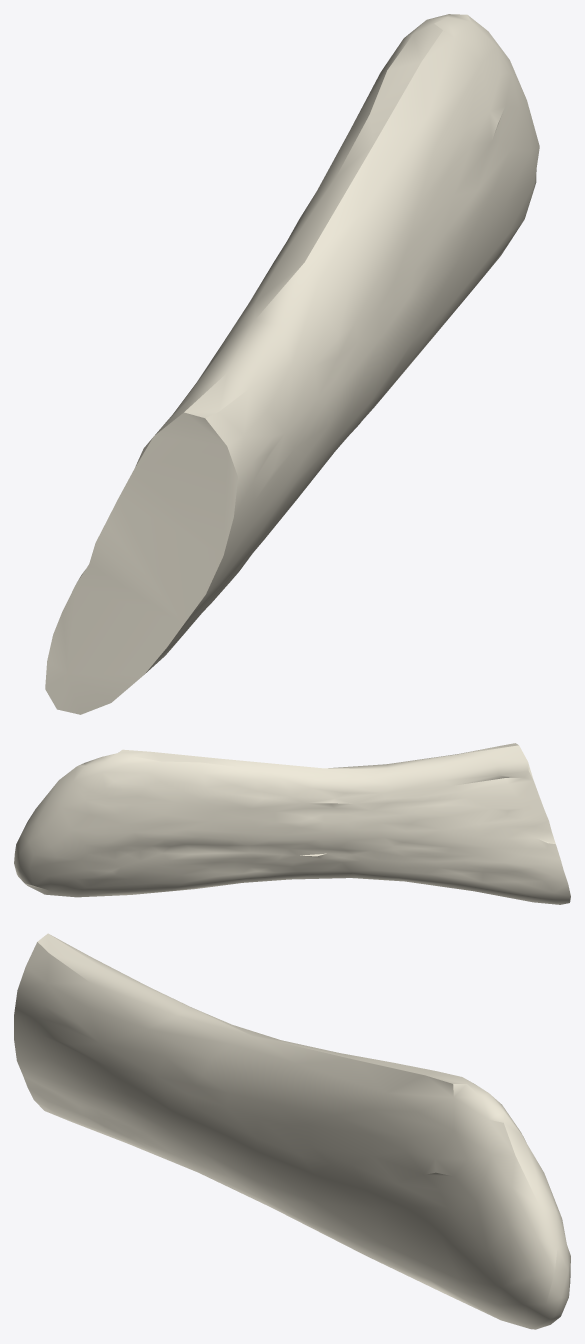
Rendered from fma26006_mm1558m.glb.
The picture shows the model from 3 angles, top to bottom: view 1: azimuth 30°, elevation 25°; view 2: azimuth 150°, elevation 25°; view 3: azimuth 270°, elevation 25°; orthographic projection. The views are drawn at different scales.
Parts seen in each view (by area): view 1: FMA26006_MM1558M; view 2: FMA26006_MM1558M; view 3: FMA26006_MM1558M.
Part boxes in pixels (x1=…): FMA26006_MM1558M: x1=45, y1=14, x2=539, y2=714; FMA26006_MM1558M: x1=14, y1=743, x2=570, y2=904; FMA26006_MM1558M: x1=14, y1=933, x2=570, y2=1329.
Bounding box in the file's own units: 0.0204 × 0.00837 × 0.0162.
